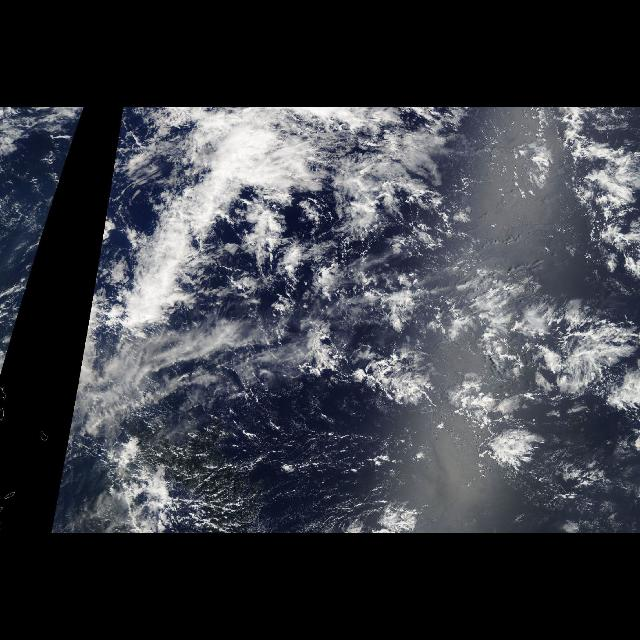Fish: (396, 260, 640, 412)
Gravel: (243, 225, 611, 465)
Sugar: (147, 414, 485, 528)
